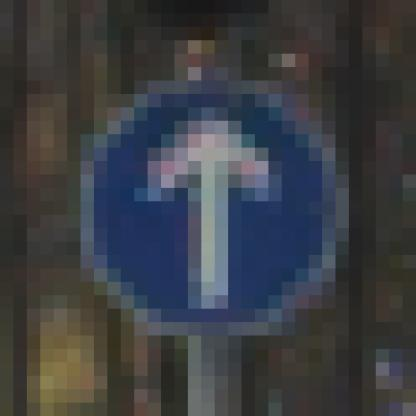straight: (67, 80, 362, 349)
